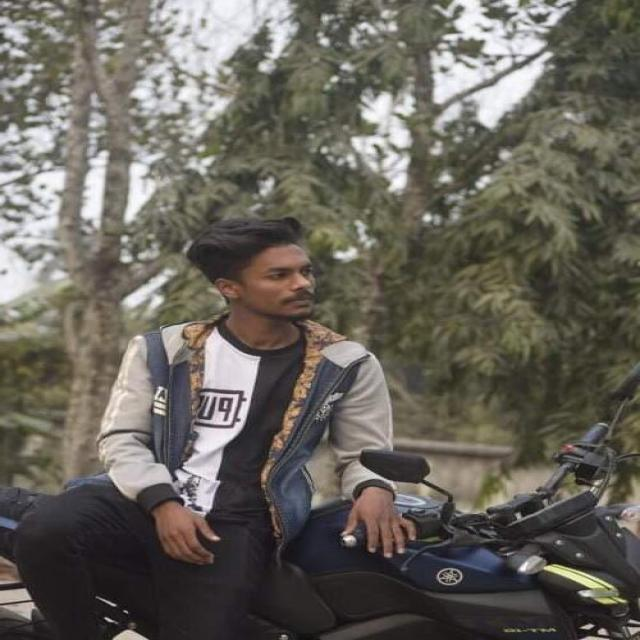No helmet: (184, 214, 332, 331)
